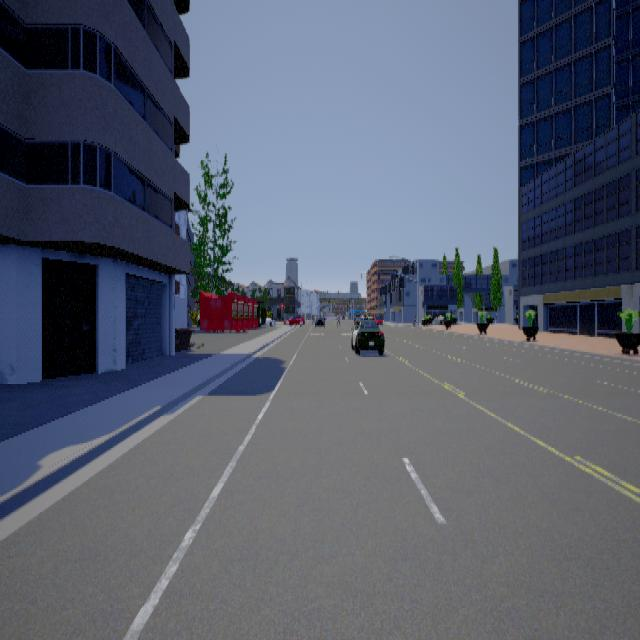vehicle: (352, 312, 386, 354)
